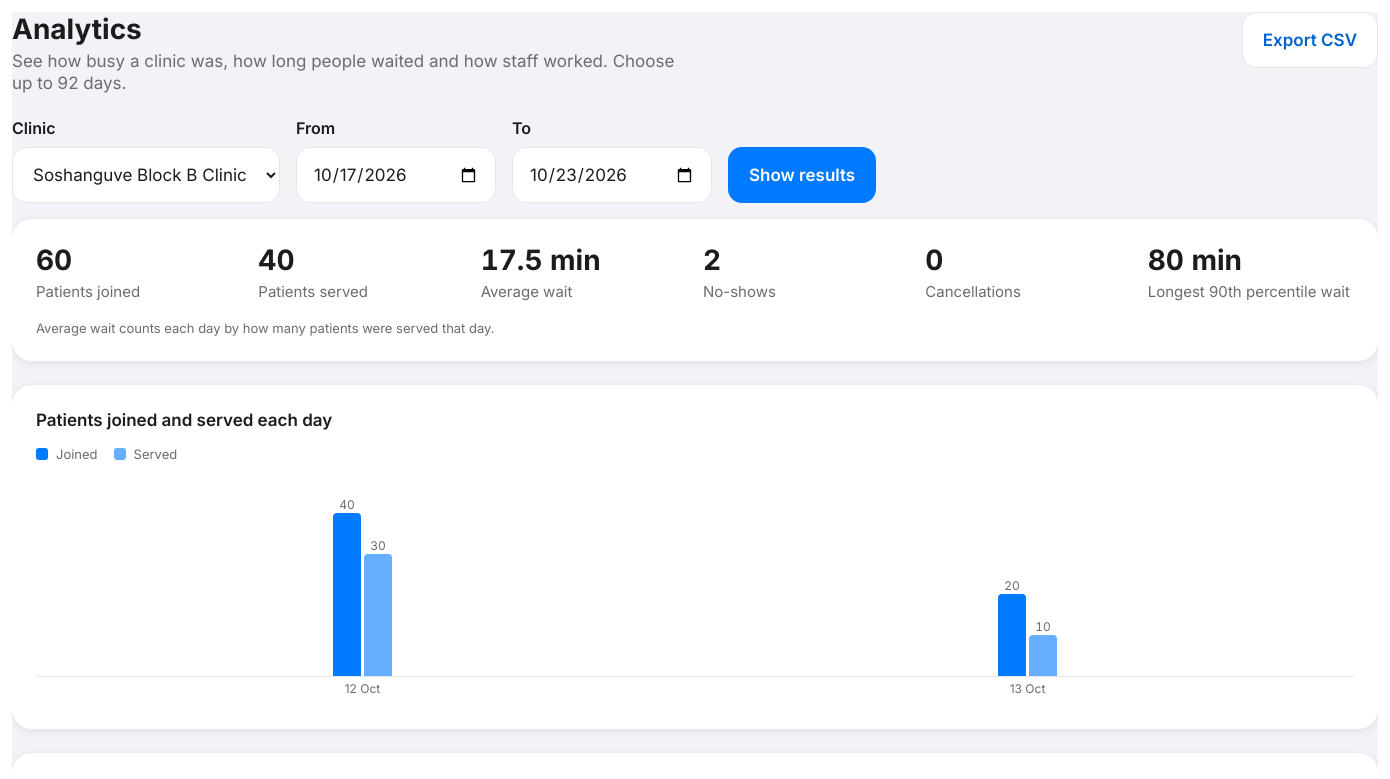
Test: a range over 92 days is refused with an explanation, and nothing is requested
Expected: the text "Patients joined" is shown, left=36, top=282, right=140, bottom=301
Type "2026-01-01" into the date field labelled "From" at (396, 175), box left=296, top=147, right=496, bottom=203
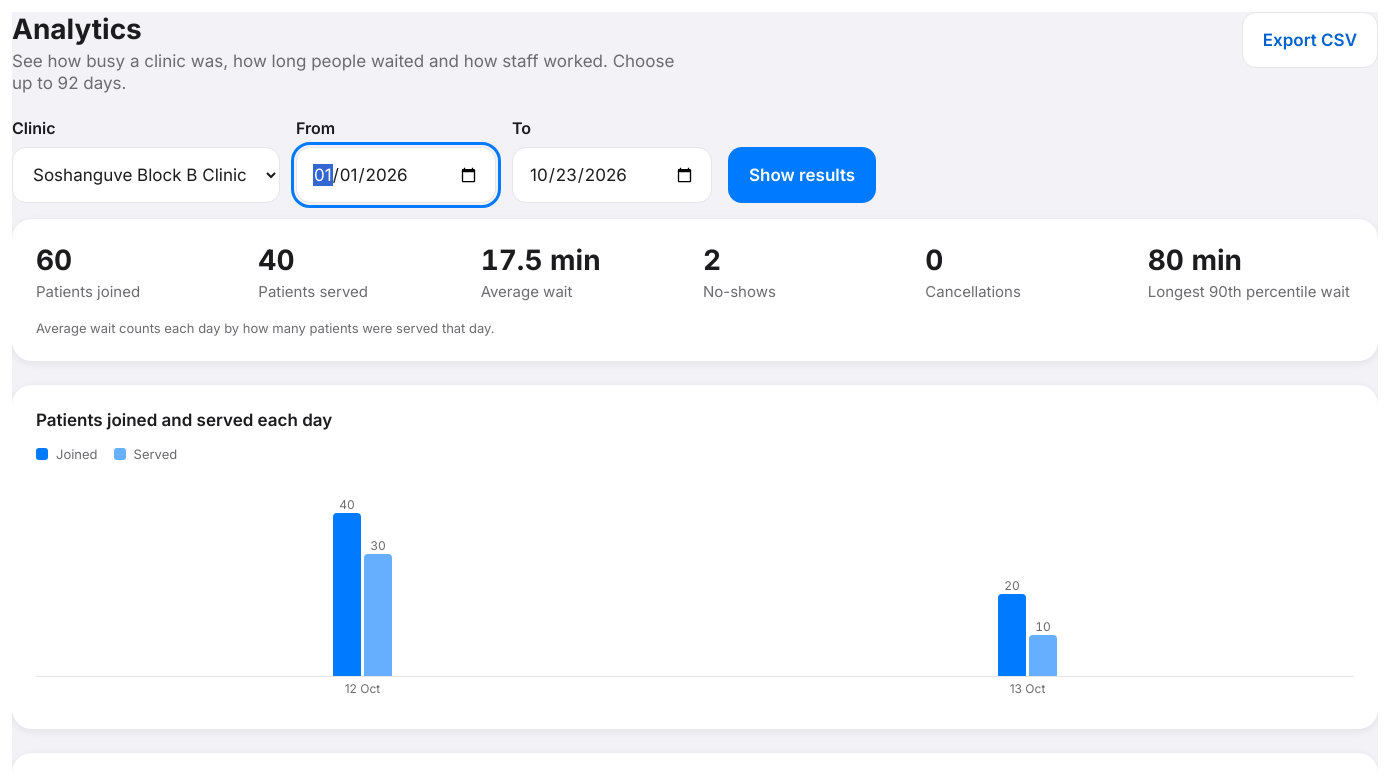
Type "2026-10-01" into the date field labelled "To" at (612, 175), box left=512, top=147, right=712, bottom=203
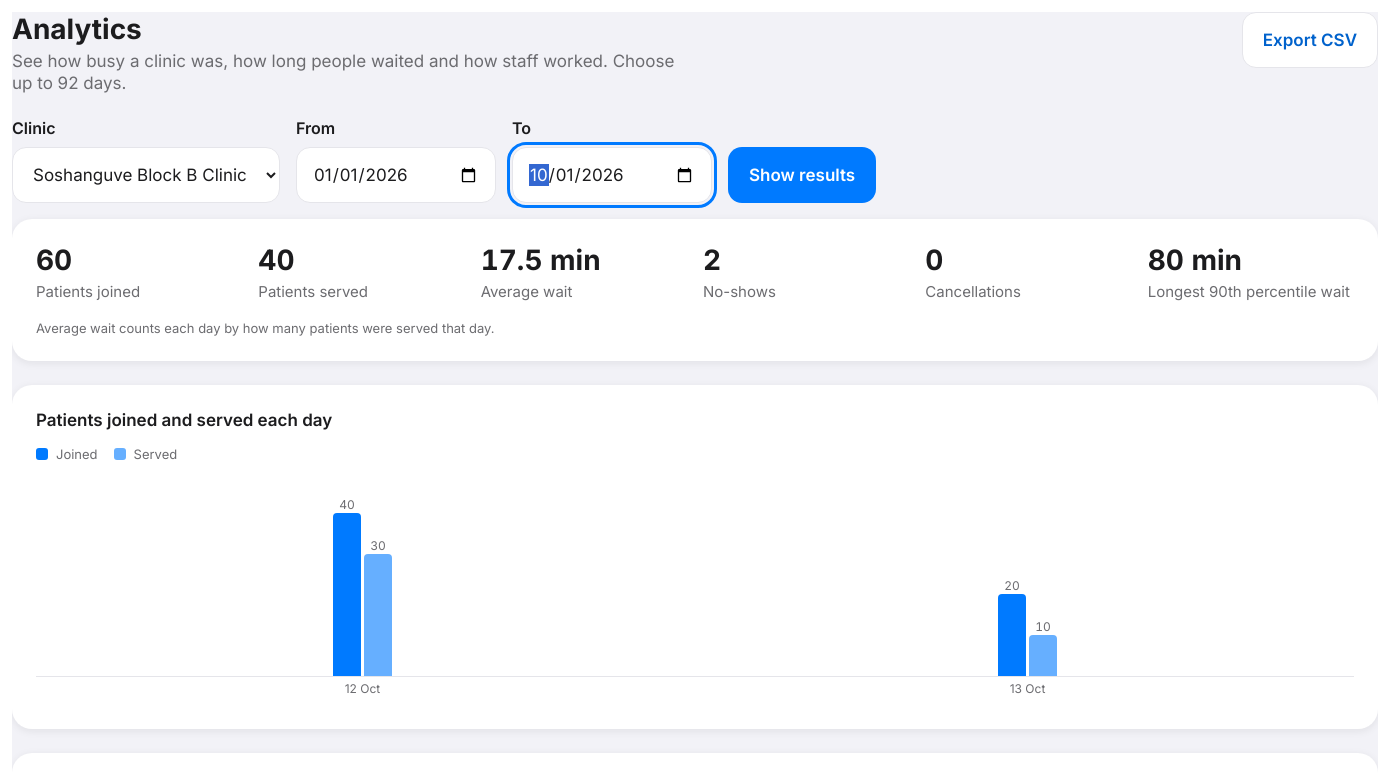
Click the button "Show results" at (802, 175), box left=728, top=147, right=876, bottom=203
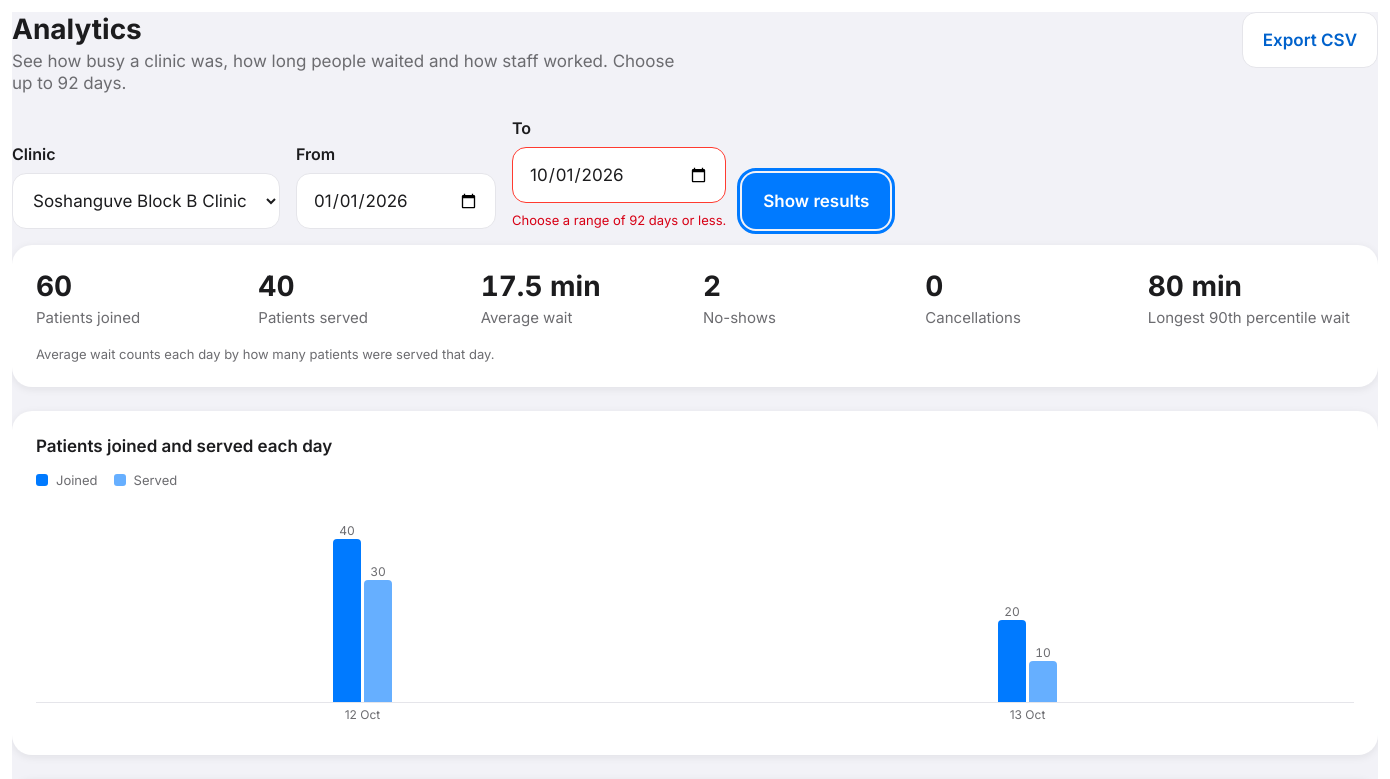
Expected: the text "Choose a range of 92 days or less." is shown, left=512, top=211, right=726, bottom=229
